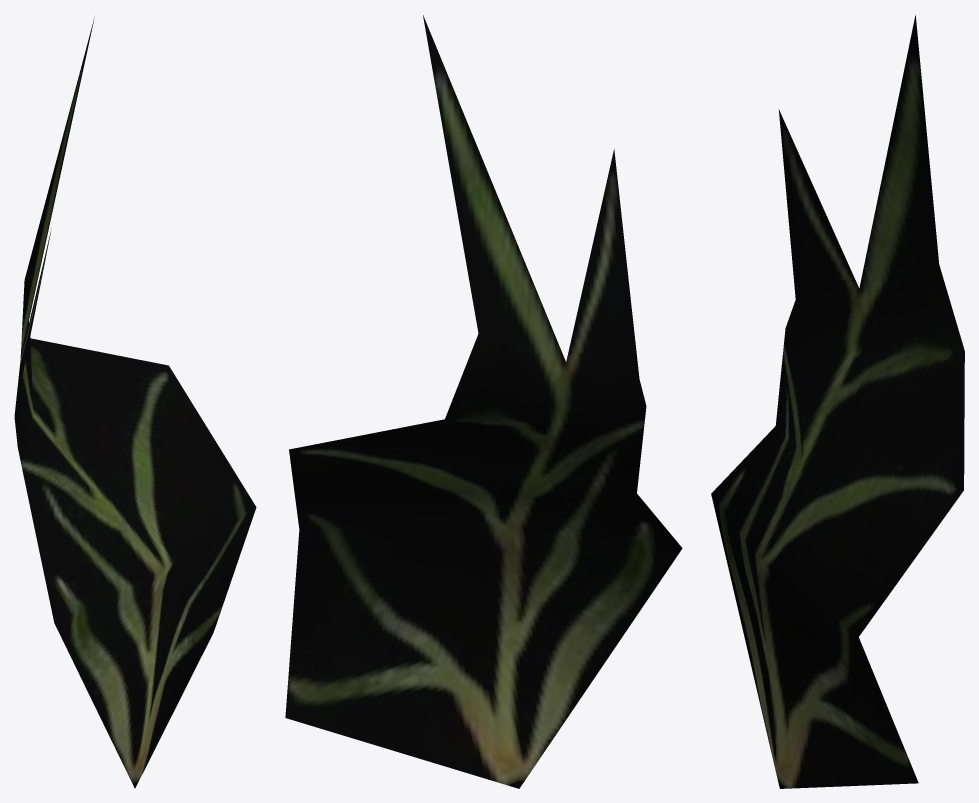
The model's file is grass.glb.
3 views of the same model, side by side, from view 1: azimuth 30°, elevation 25°; view 2: azimuth 150°, elevation 25°; view 3: azimuth 270°, elevation 25° (orthographic). The views are drawn at different scales.
Parts seen in each view (by area): view 1: grass_bermuda_01_medium_a; view 2: grass_bermuda_01_medium_a; view 3: grass_bermuda_01_medium_a.
Part boxes in pixels (x1,y1,x2,y2): grass_bermuda_01_medium_a: (14,17,256,788); grass_bermuda_01_medium_a: (285,15,682,788); grass_bermuda_01_medium_a: (711,15,964,788).
Bounding box in the file's own units: 0.0385 × 0.0978 × 0.0286.
Materials: 1 (1 with a texture image).
